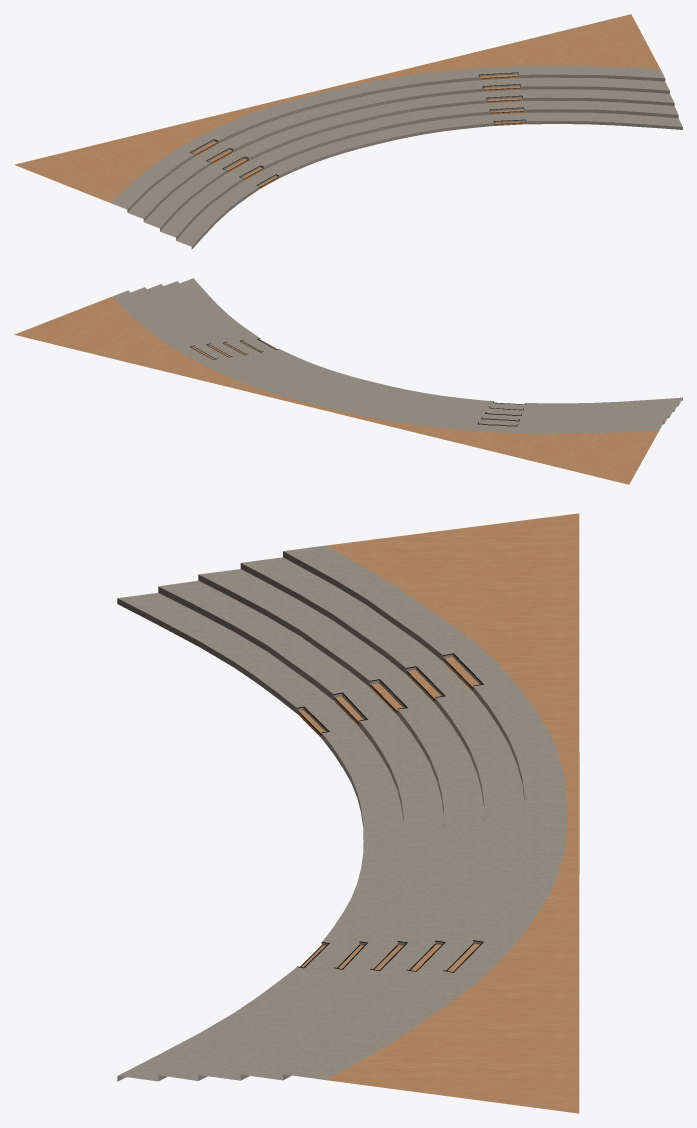
File: Auditorium02_Staircase.FBX
3 renders of one model, top to bottom at view 1: azimuth 30°, elevation 25°; view 2: azimuth 150°, elevation 25°; view 3: azimuth 270°, elevation 25°, orthographic. The views are drawn at different scales.
Visible parts, largest first — view 1: Auditorium02_Staircase; view 2: Auditorium02_Staircase; view 3: Auditorium02_Staircase.
Boxes of the visible parts, x1,y1,x2,y2 form: Auditorium02_Staircase: (14,14,682,249); Auditorium02_Staircase: (14,278,682,484); Auditorium02_Staircase: (117,513,579,1113).
Size of the model in its own units: 48585 by 1161 by 15801.
Materials: 4 (3 with a texture image).
